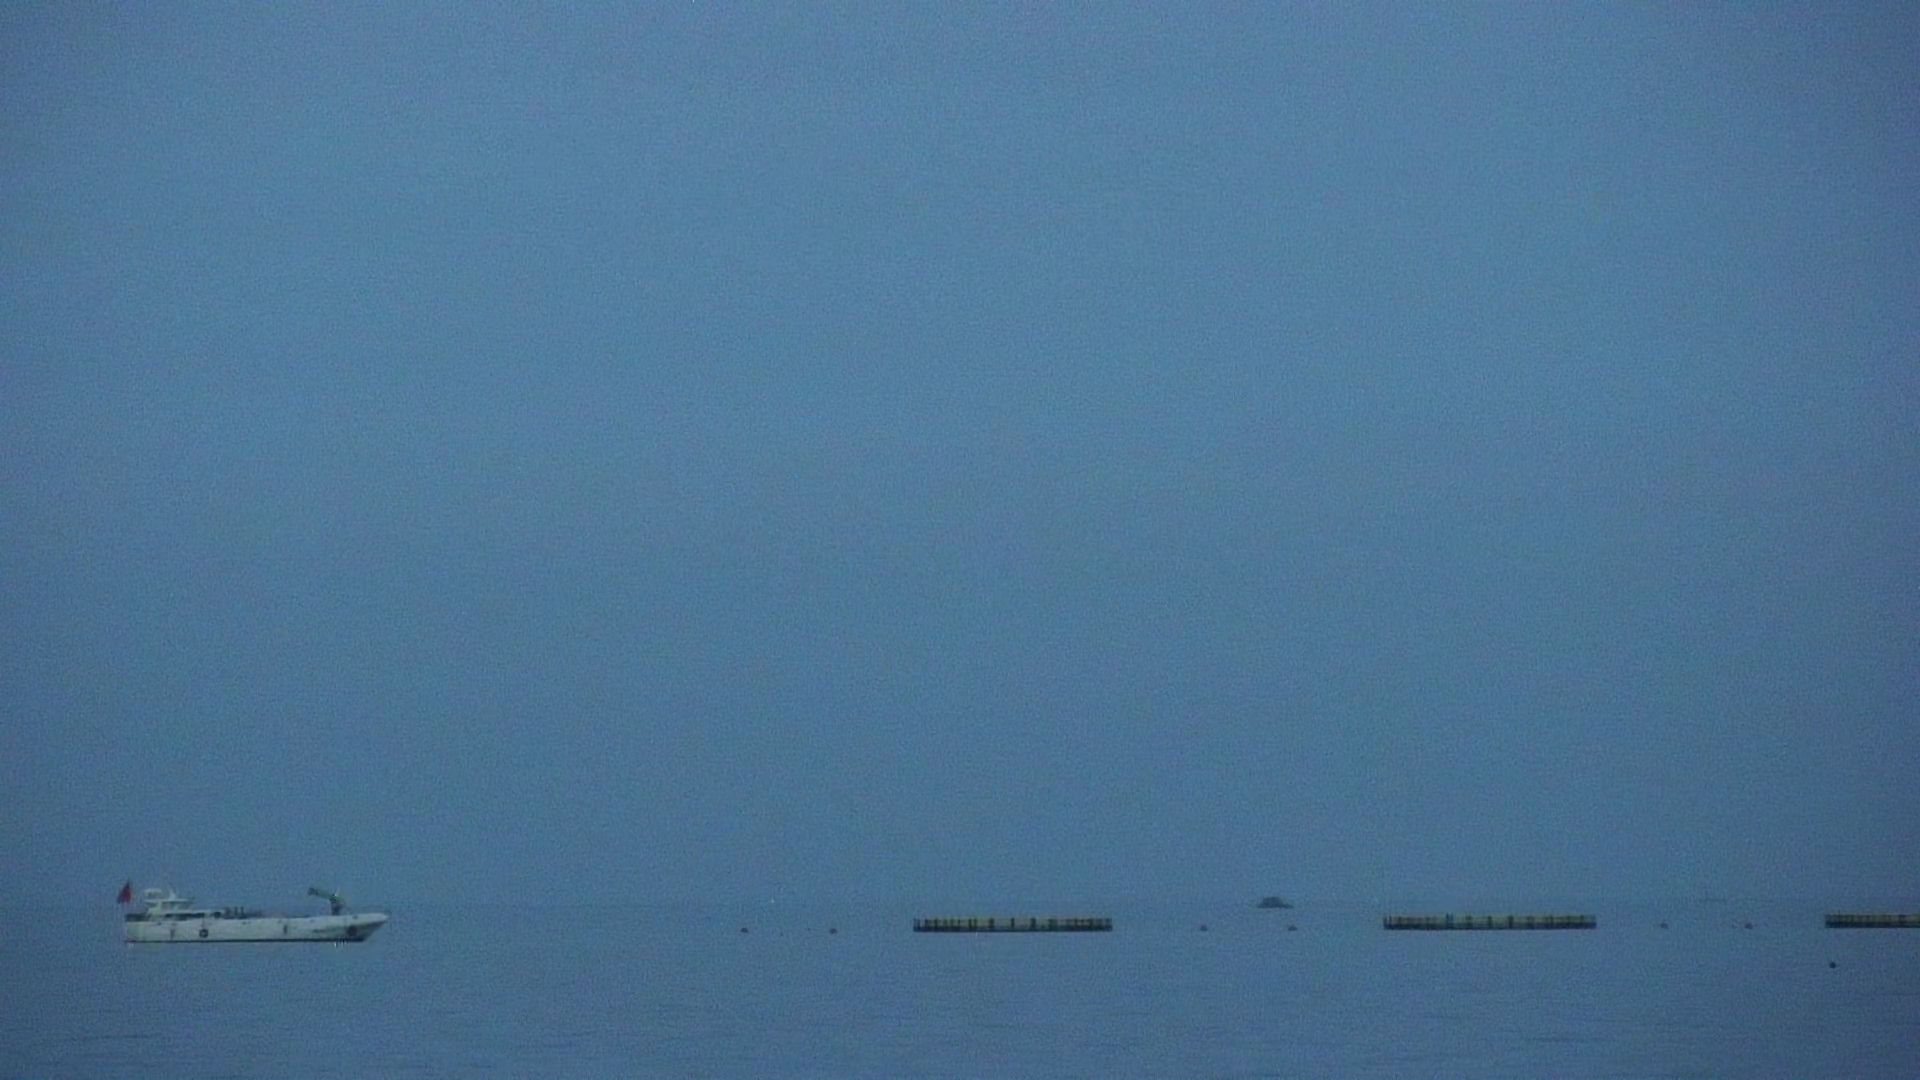platform: (901, 901, 1120, 947), (1377, 899, 1619, 939), (1815, 906, 1920, 938)
ship: (119, 866, 394, 953)
